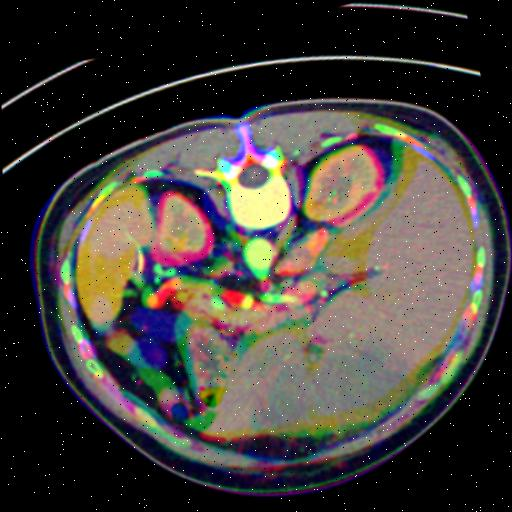Abscess: (249, 349, 407, 431)
